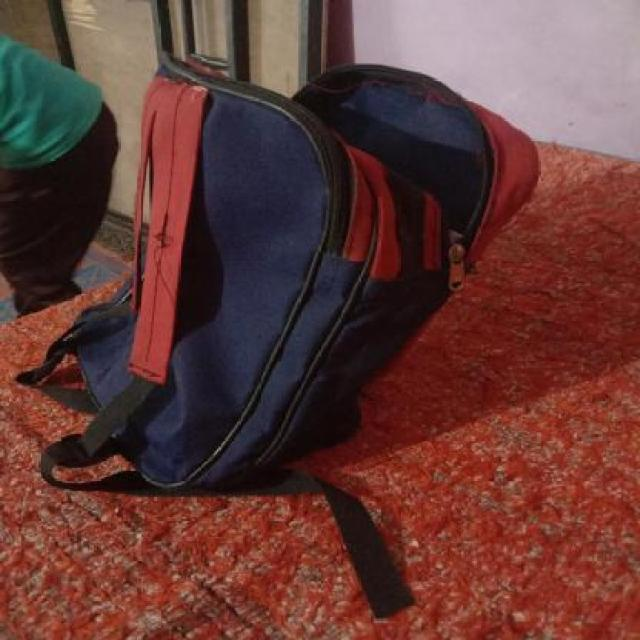backpack: (9, 45, 545, 500)
